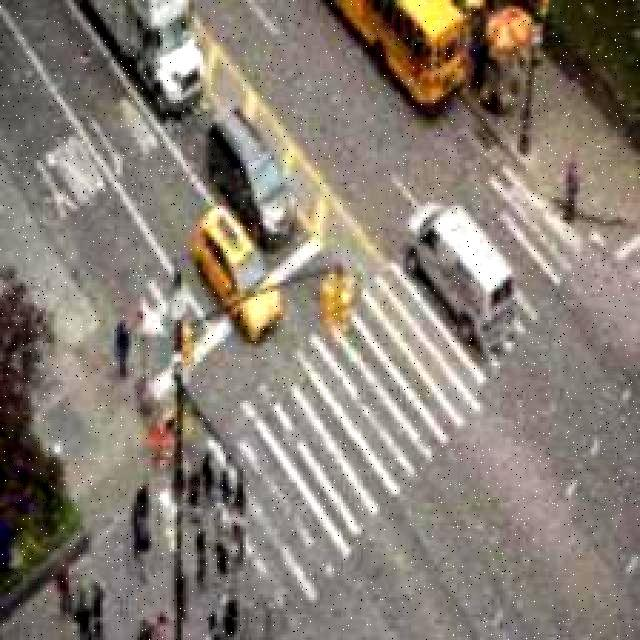crosswalk: (196, 103, 613, 632)
